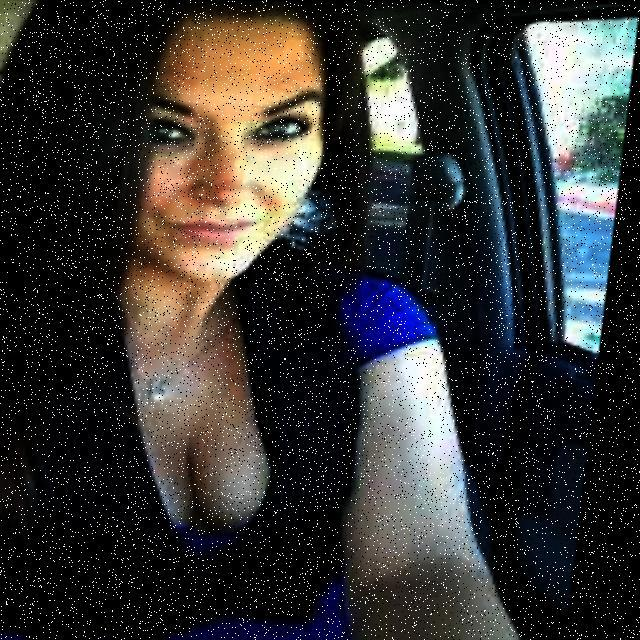noSeatbelt: (0, 242, 486, 640)
